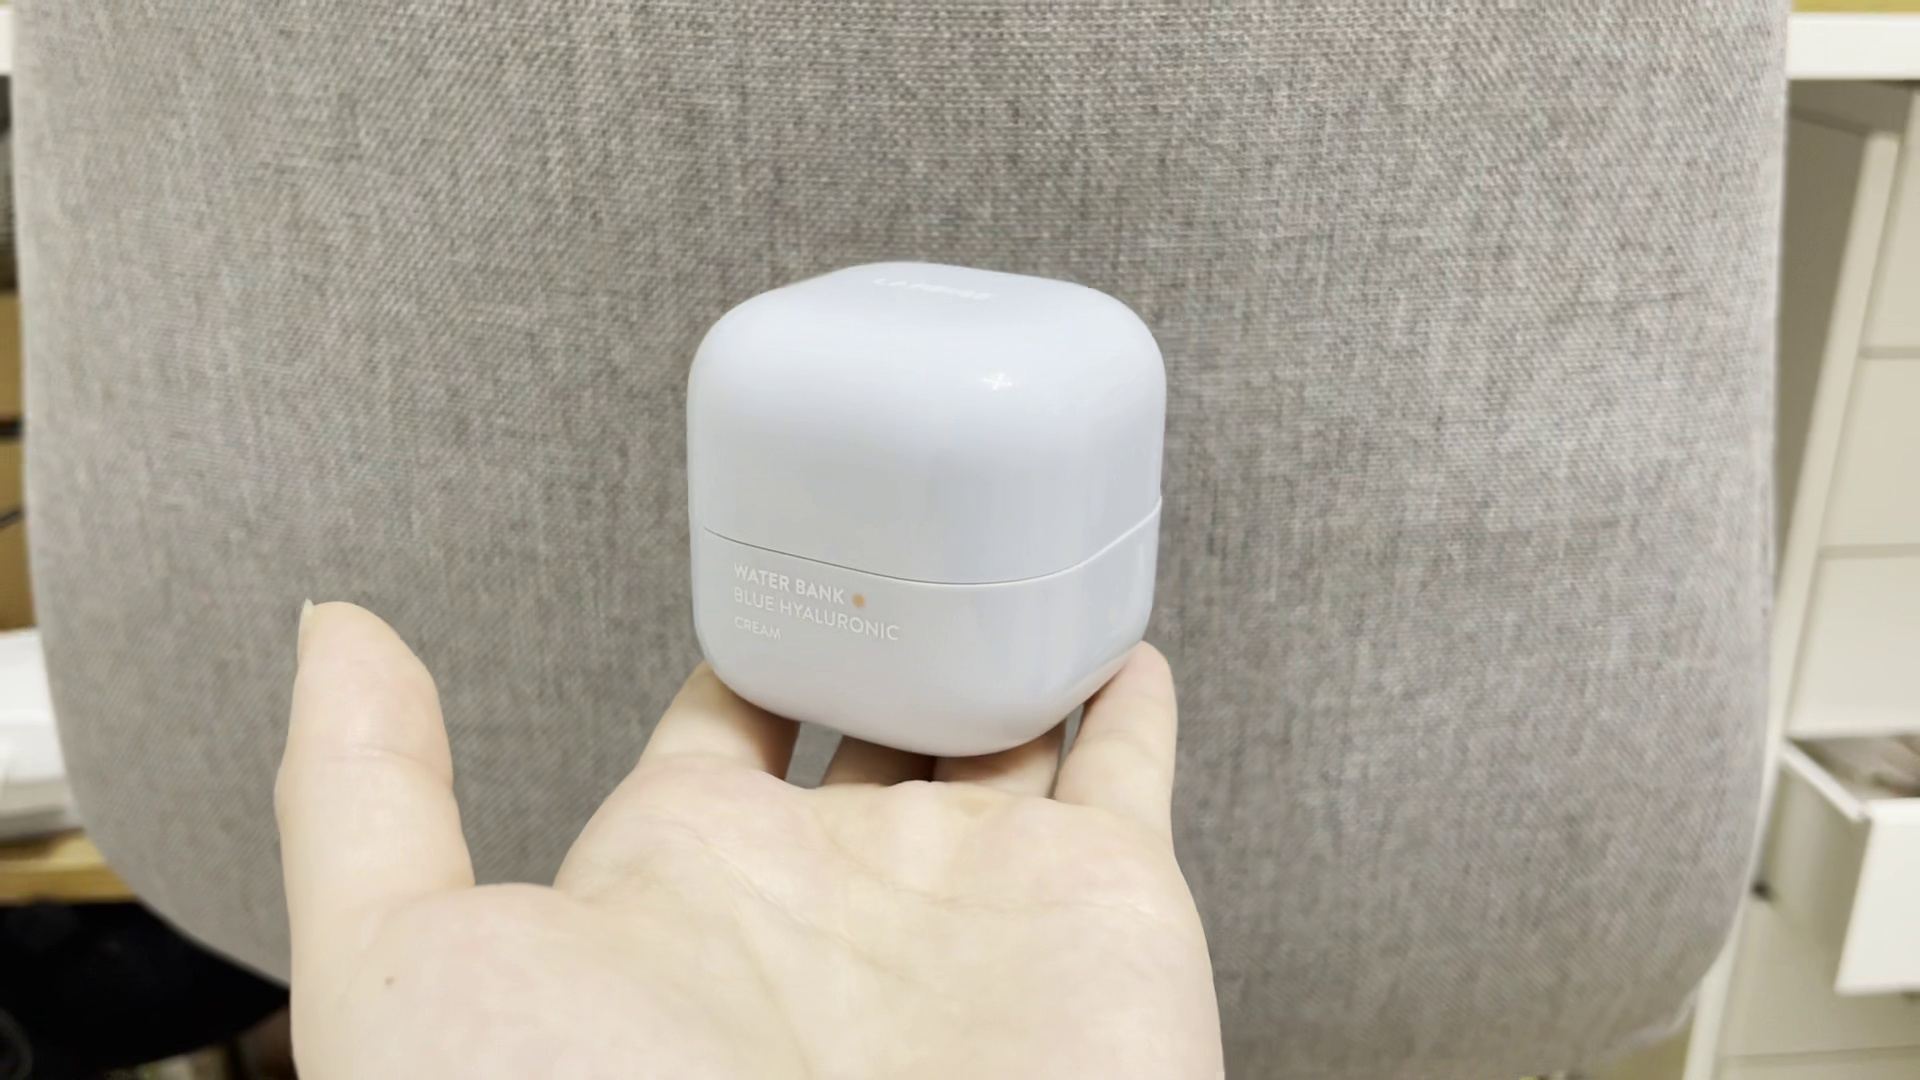cream: (684, 260, 1160, 762)
